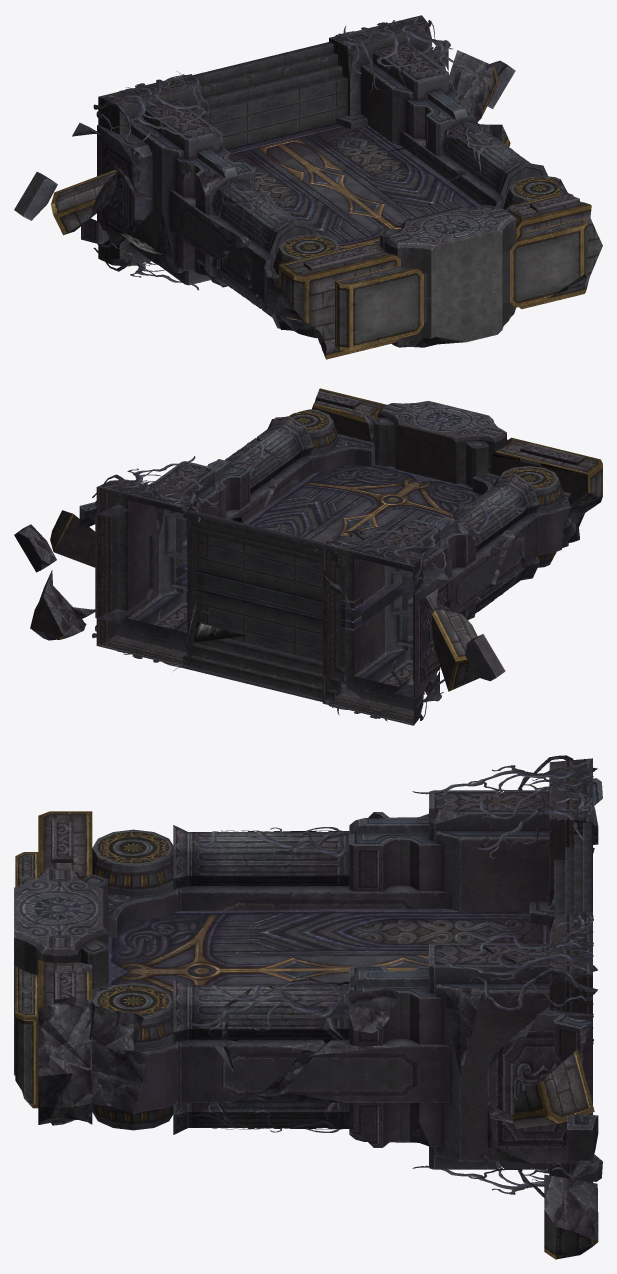
The model's file is huodong_fuben_652_pingtai02_men_po.obj.
3 views of the same model, one above another, from view 1: azimuth 30°, elevation 25°; view 2: azimuth 150°, elevation 25°; view 3: azimuth 270°, elevation 25° (orthographic). The views are drawn at different scales.
Parts seen in each view (by area): view 1: huodong_fuben_652_pingtai02_men_po, Object02, Object01; view 2: huodong_fuben_652_pingtai02_men_po, Object02, Object01; view 3: huodong_fuben_652_pingtai02_men_po, Object01, Object02.
Boxes of the visible parts, <box> form: huodong_fuben_652_pingtai02_men_po: <box>14,15,602,359</box>; Object02: <box>274,124,480,229</box>; Object01: <box>228,140,392,249</box>; huodong_fuben_652_pingtai02_men_po: <box>14,388,602,725</box>; Object02: <box>176,464,425,602</box>; Object01: <box>268,477,481,624</box>; huodong_fuben_652_pingtai02_men_po: <box>14,755,602,1259</box>; Object01: <box>107,909,549,971</box>; Object02: <box>108,969,413,998</box>.
Size of the model in its own units: 1085 by 387 by 804.
Materials: 6 (6 with a texture image).
